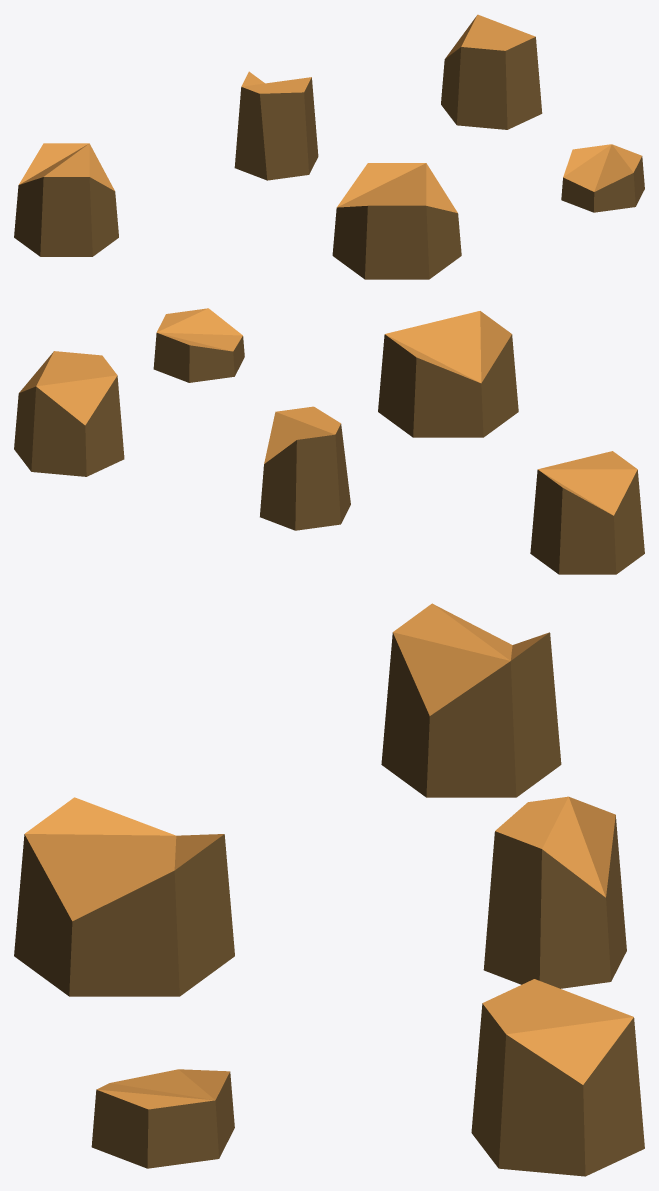
The model's file is resource_tree2_empty.fbx.
3 views of the same model, one above another, from view 1: azimuth 30°, elevation 25°; view 2: azimuth 150°, elevation 25°; view 3: azimuth 270°, elevation 25° (orthographic). The views are drawn at different scales.
Parts seen in each view (by area): view 1: resource_tree2_empty; view 2: resource_tree2_empty; view 3: resource_tree2_empty.
Boxes of the visible parts, <box> form: resource_tree2_empty: <box>14,14,644,279</box>; resource_tree2_empty: <box>14,308,644,574</box>; resource_tree2_empty: <box>14,603,644,1176</box>.
Size of the model in its own units: 167 by 24.2 by 100.
